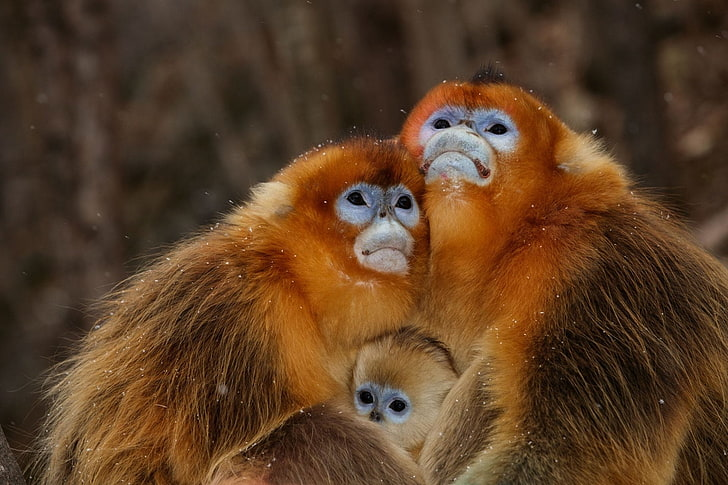GoldenSnub-Nosed: (52, 148, 432, 482), (403, 90, 720, 478), (356, 332, 465, 446)
